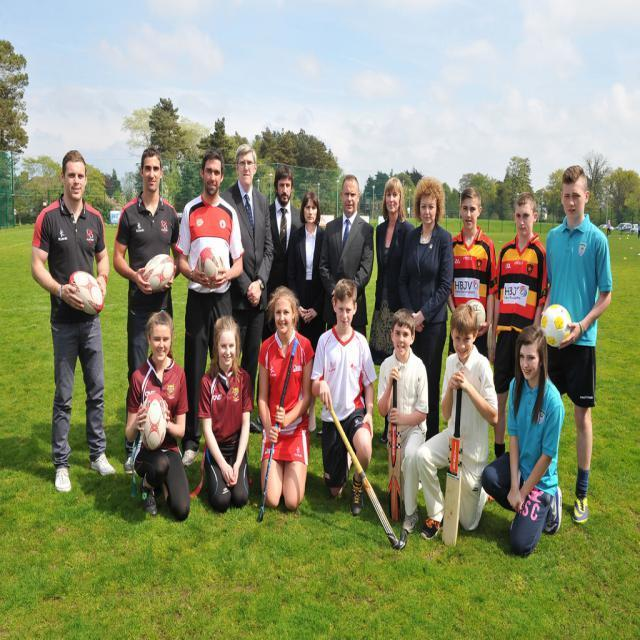football: (132, 399, 179, 451), (186, 241, 234, 290), (58, 272, 111, 313), (127, 256, 182, 292), (528, 305, 577, 345), (459, 301, 497, 325)
